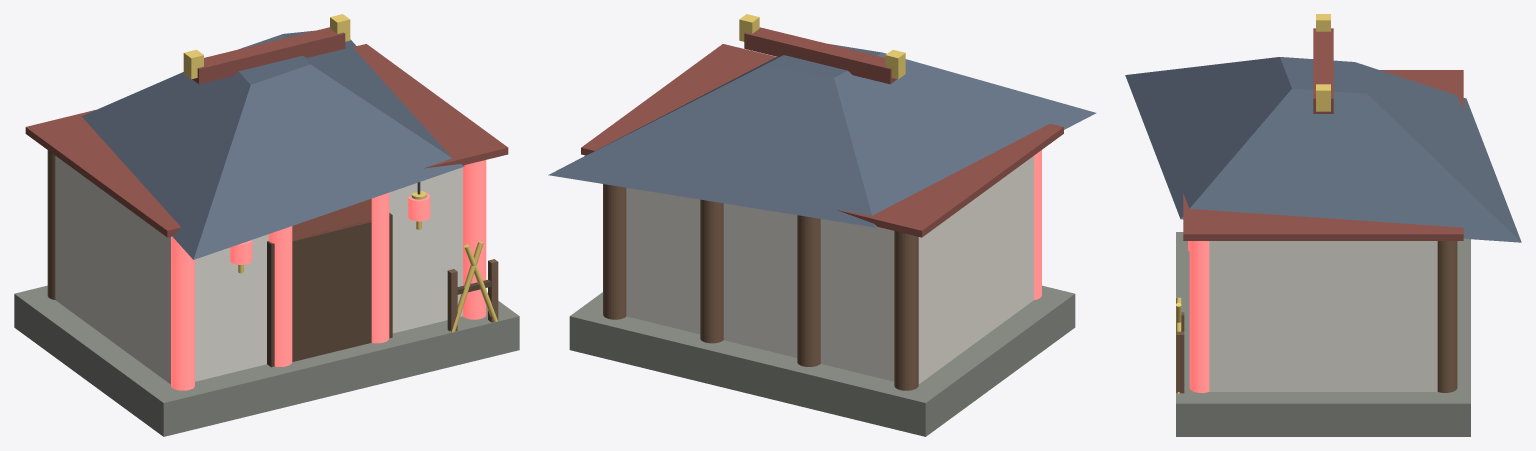
The model's file is barracks.glb.
3 renders of one model, left to right at view 1: azimuth 30°, elevation 25°; view 2: azimuth 150°, elevation 25°; view 3: azimuth 270°, elevation 25°, orthographic.
Visible parts, largest first — view 1: DojoRoof_Tiles, DojoHall, DojoBase, DojoGate, DojoRoof_EavesTrim, DojoRoof_Ridge, DojoColF_-1.8, DojoColF_1.8, DojoColF_0.6, DojoColF_-0.6, DojoSign, DojoColB_-1.8 (+5 smaller); view 2: DojoRoof_Tiles, DojoHall, DojoBase, DojoRoof_EavesTrim, DojoColB_-1.8, DojoColB_-0.6, DojoRoof_Ridge, DojoColB_0.6, DojoColB_1.8, DojoColF_-1.8; view 3: DojoRoof_Tiles, DojoHall, DojoBase, DojoRoof_EavesTrim, DojoColB_1.8, DojoColF_1.8, DojoRoof_Ridge, RackR, DojoRoof_Finial.001.
Boxes of the visible parts, left/top/right/bottom form: DojoRoof_Tiles: left=82, top=30, right=464, bottom=259; DojoHall: left=55, top=156, right=462, bottom=384; DojoBase: left=14, top=285, right=519, bottom=436; DojoGate: left=267, top=213, right=392, bottom=367; DojoRoof_EavesTrim: left=25, top=44, right=508, bottom=237; DojoRoof_Ridge: left=192, top=27, right=345, bottom=84; DojoColF_-1.8: left=171, top=236, right=194, bottom=390; DojoColF_1.8: left=463, top=160, right=486, bottom=319; DojoColF_0.6: left=371, top=192, right=389, bottom=343; DojoColF_-0.6: left=268, top=226, right=292, bottom=366; DojoSign: left=292, top=198, right=371, bottom=241; DojoColB_-1.8: left=47, top=150, right=55, bottom=299; DojoRoof_Tiles: left=548, top=44, right=1096, bottom=227; DojoHall: left=626, top=156, right=1033, bottom=384; DojoBase: left=569, top=285, right=1075, bottom=436; DojoRoof_EavesTrim: left=581, top=44, right=1063, bottom=237; DojoColB_-1.8: left=894, top=231, right=918, bottom=390; DojoColB_-0.6: left=797, top=215, right=820, bottom=366; DojoRoof_Ridge: left=744, top=27, right=896, bottom=84; DojoColB_0.6: left=700, top=199, right=723, bottom=343; DojoColB_1.8: left=603, top=184, right=626, bottom=319; DojoColF_-1.8: left=1034, top=150, right=1041, bottom=299; DojoRoof_Tiles: left=1125, top=57, right=1521, bottom=242; DojoHall: left=1209, top=241, right=1437, bottom=391; DojoBase: left=1176, top=232, right=1470, bottom=436; DojoRoof_EavesTrim: left=1183, top=70, right=1463, bottom=240; DojoColB_1.8: left=1437, top=241, right=1457, bottom=392; DojoColF_1.8: left=1189, top=241, right=1209, bottom=392; DojoRoof_Ridge: left=1313, top=28, right=1333, bottom=113; RackR: left=1176, top=331, right=1184, bottom=393; DojoRoof_Finial.001: left=1316, top=84, right=1330, bottom=111.
Bounding box in the file's own units: 4.4 × 3.58 × 4.3.
